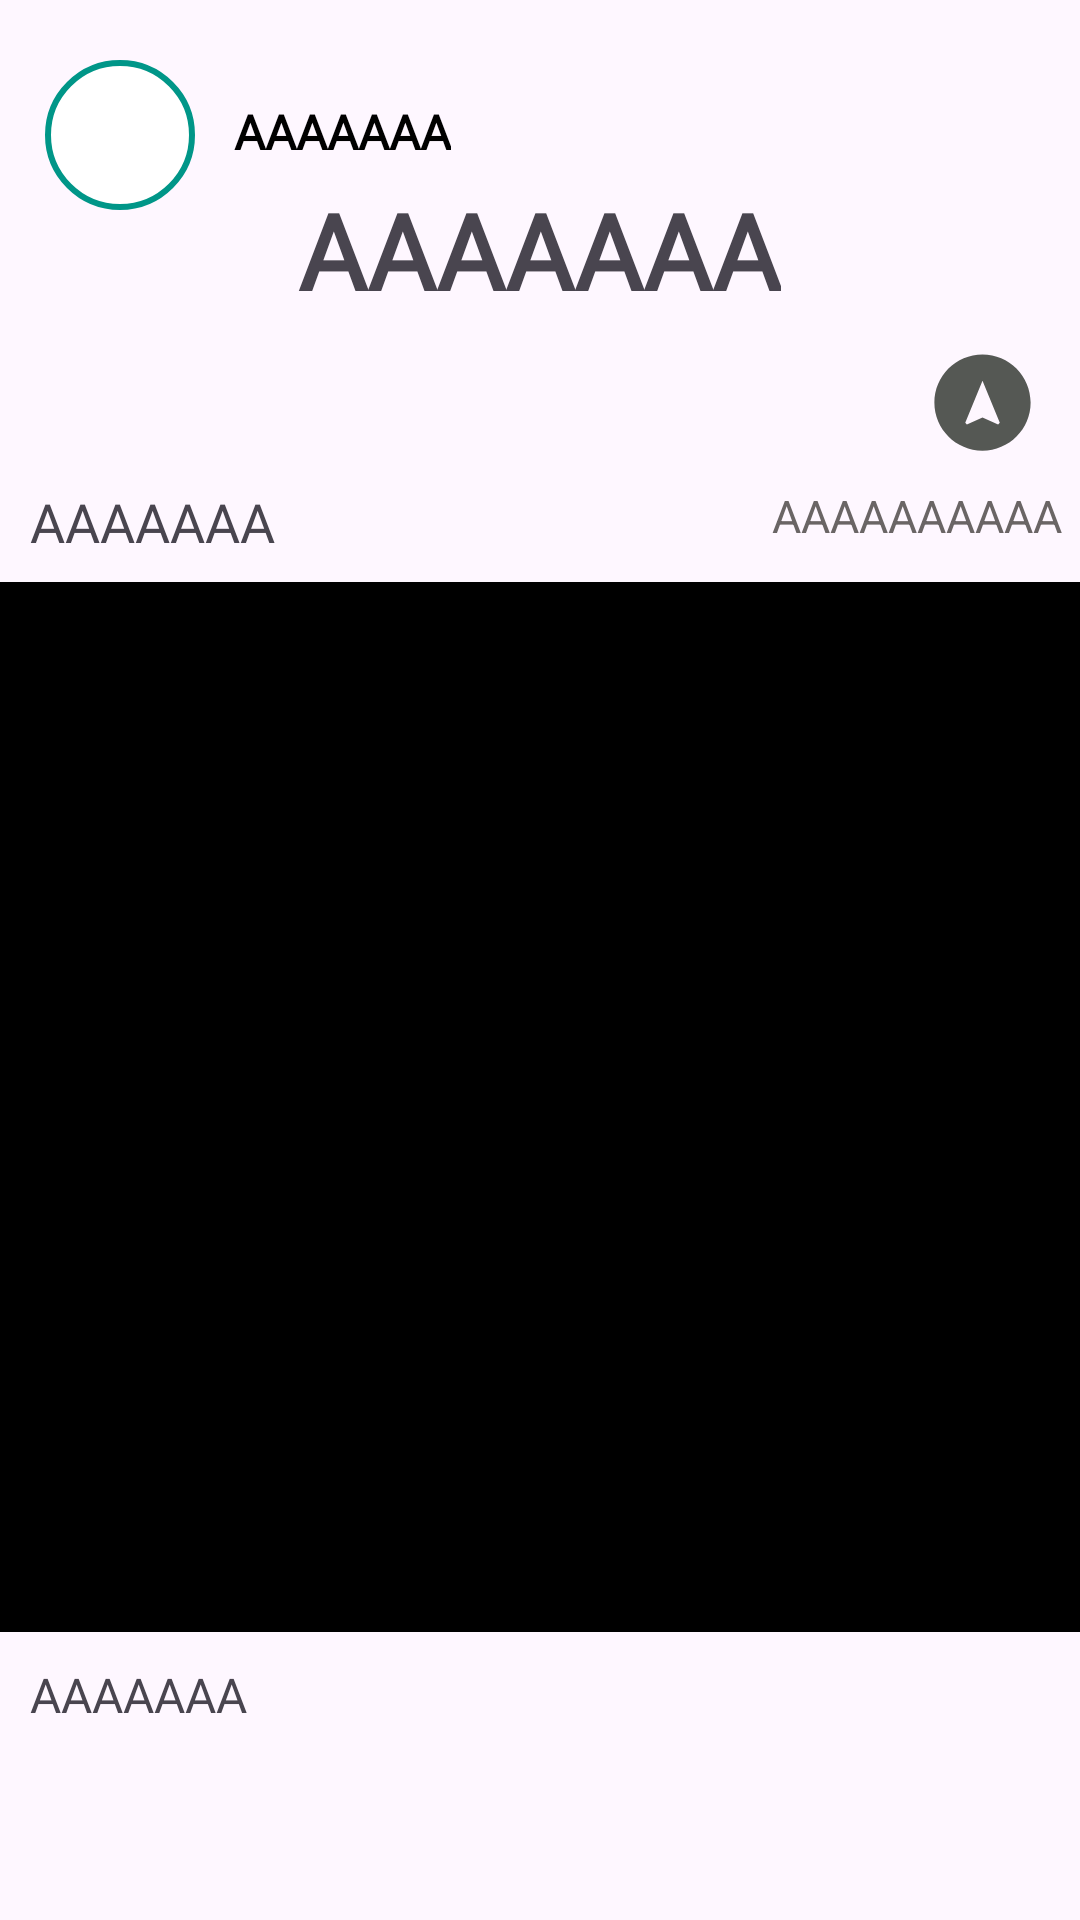

Where to tap for icons on this 1080×1920 app screen, as (x,y):
Abrir no Google Maps: (982,402)
